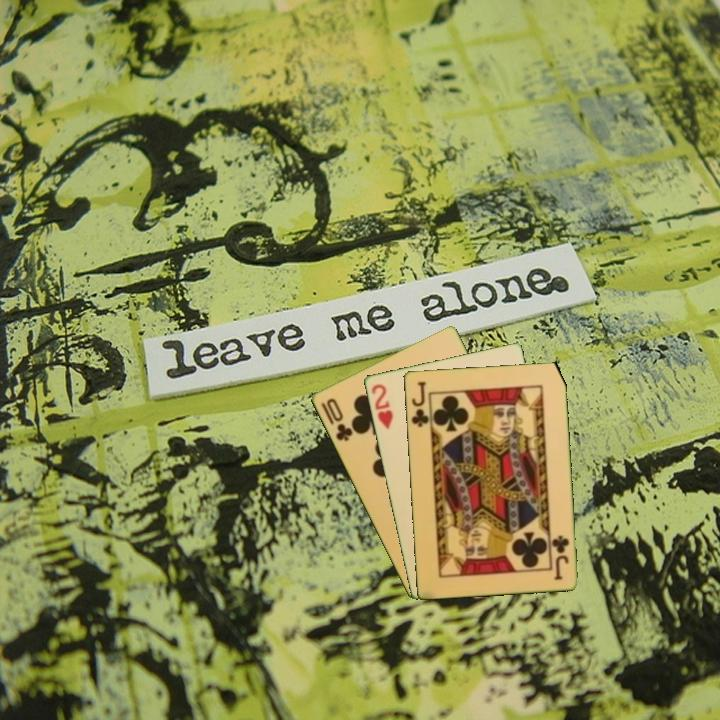10c: (317, 394, 355, 444)
2h: (368, 380, 396, 432)
Jc: (408, 377, 431, 429), (549, 532, 572, 582)
